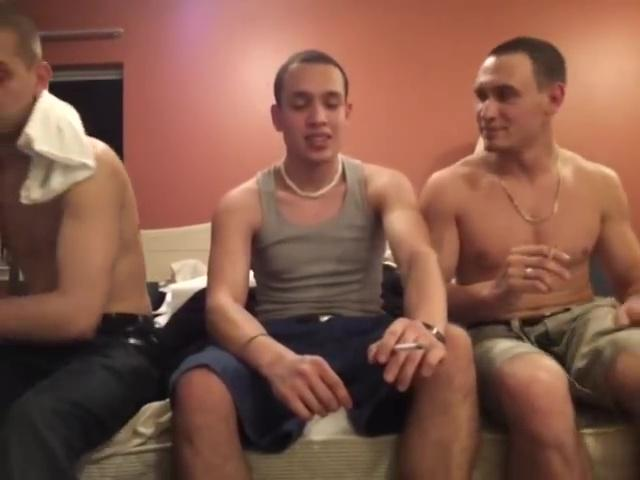cigarette: (389, 341, 429, 355), (546, 246, 560, 265)
